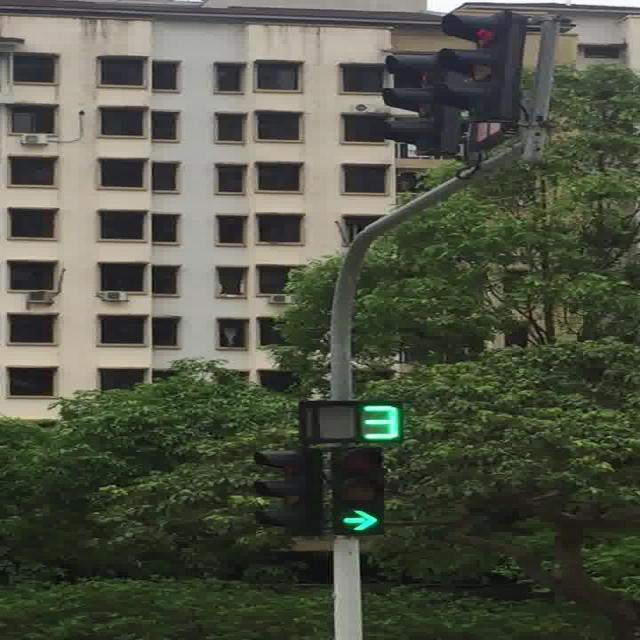green_light: (332, 446, 384, 536)
